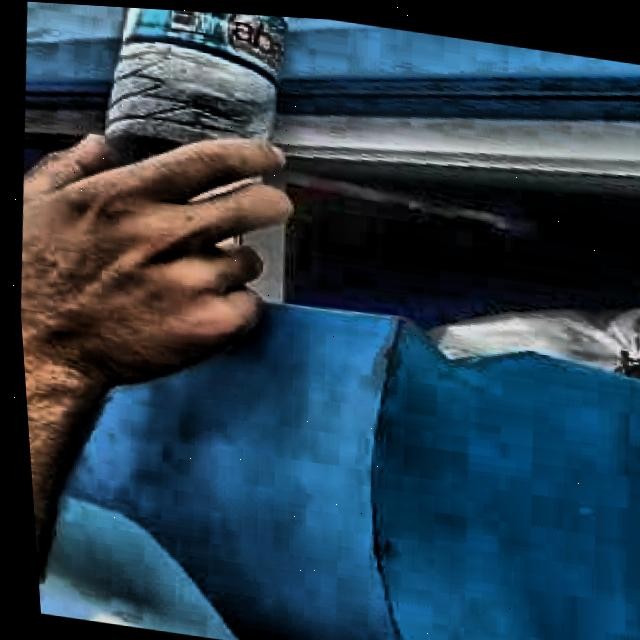plastic: (103, 6, 286, 158)
